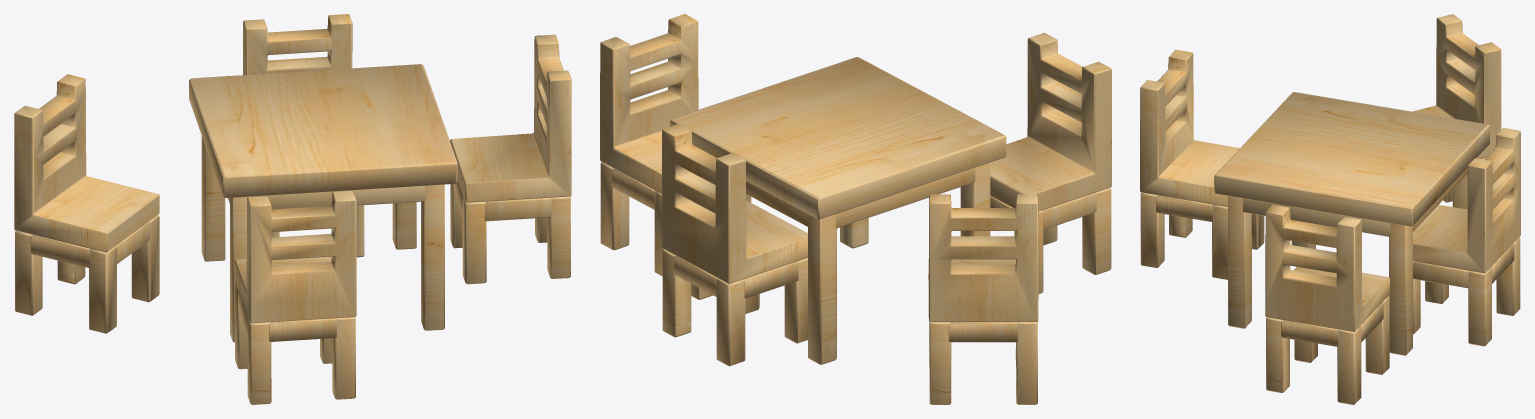
The model's file is kids_table.glb.
3 renders of one model, left to right at view 1: azimuth 30°, elevation 25°; view 2: azimuth 150°, elevation 25°; view 3: azimuth 270°, elevation 25°, orthographic. The views are drawn at different scales.
Parts seen in each view (by area): view 1: pCube10_Texture_0; view 2: pCube10_Texture_0; view 3: pCube10_Texture_0.
Boxes of the visible parts, x1,y1,x2,y2 form: pCube10_Texture_0: [14, 14, 571, 404]; pCube10_Texture_0: [600, 14, 1111, 404]; pCube10_Texture_0: [1140, 14, 1520, 404].
Bounding box in the file's own units: 1.4 × 0.55 × 1.06.
1 material, 1 textured.
